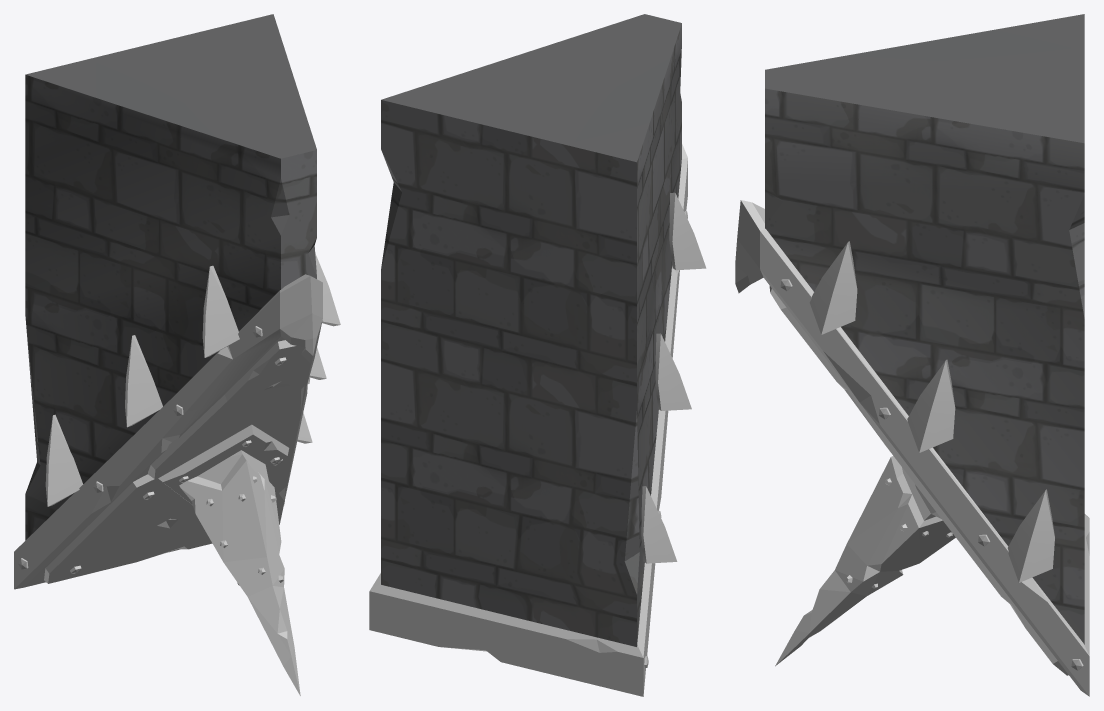
The model's file is SM_Bld_Corner_Tower_01.fbx.
The picture shows the model from 3 angles, left to right: view 1: azimuth 30°, elevation 25°; view 2: azimuth 150°, elevation 25°; view 3: azimuth 270°, elevation 25°; orthographic projection. The views are drawn at different scales.
Parts seen in each view (by area): view 1: SM_Bld_Corner_Tower_01; view 2: SM_Bld_Corner_Tower_01; view 3: SM_Bld_Corner_Tower_01.
Part boxes in pixels (<box>): SM_Bld_Corner_Tower_01: <box>14,14,340,695</box>; SM_Bld_Corner_Tower_01: <box>369,14,706,696</box>; SM_Bld_Corner_Tower_01: <box>735,14,1089,696</box>.
Size of the model in its own units: 331 by 651 by 358.
